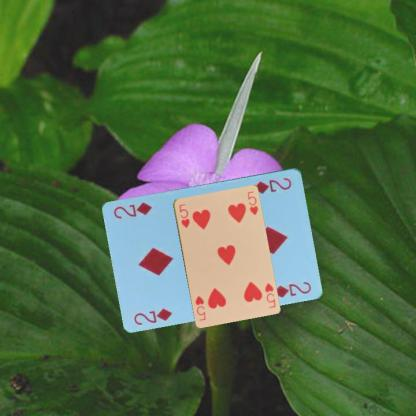2d: (131, 305, 173, 326), (251, 174, 293, 194)
5h: (262, 280, 277, 309), (176, 201, 191, 229)
